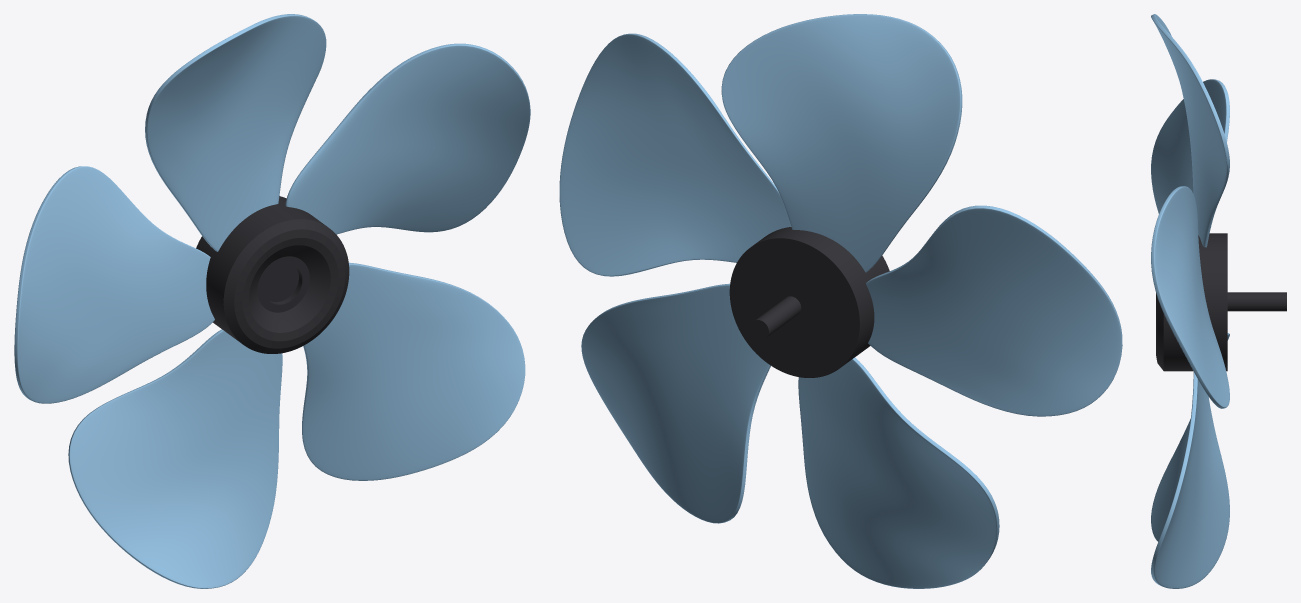
The model's file is Ventilador_aspas.obj.
3 renders of one model, left to right at view 1: azimuth 30°, elevation 25°; view 2: azimuth 150°, elevation 25°; view 3: azimuth 270°, elevation 25°, orthographic. The views are drawn at different scales.
Parts seen in each view (by area): view 1: Ventilador_aspas; view 2: Ventilador_aspas; view 3: Ventilador_aspas.
Boxes of the visible parts, x1,y1,x2,y2 form: Ventilador_aspas: (14,14,530,588); Ventilador_aspas: (559,14,1122,588); Ventilador_aspas: (1151,14,1286,588).
Bounding box in the file's own units: 0.5299 × 0.5309 × 0.1252.
2 materials, 2 textured.
